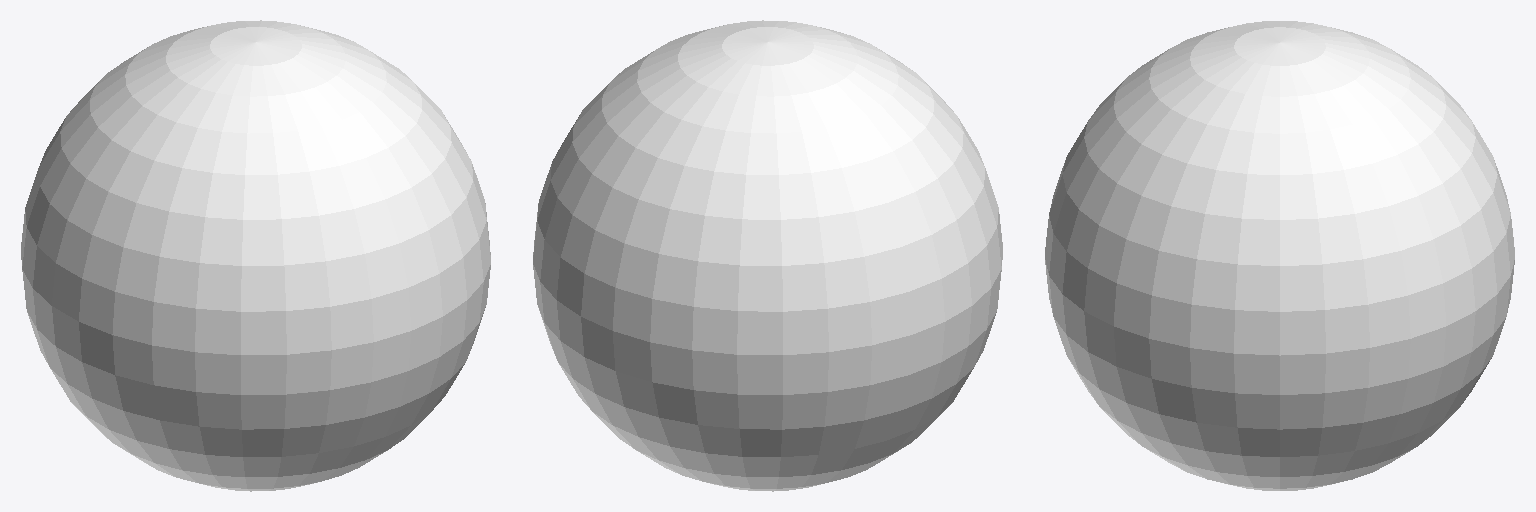
robot.urdf — target:
<?xml version="1.0" ?>
<!-- =================================================================================== -->
<!-- |    This document was autogenerated by xacro from target_sphere.xacro            | -->
<!-- |    EDITING THIS FILE BY HAND IS NOT RECOMMENDED                                 | -->
<!-- =================================================================================== -->
<robot name="target" xmlns:xacro="http://www.ros.org/wiki/xacro">
  <link name="target">
    <contact>
      <lateral_friction value="1"/>
    </contact>
    <inertial>
      <origin rpy="0 0 0" xyz="0 0 0"/>
      <mass value="0.5"/>
      <inertia ixx="0.0005" ixy="0" ixz="0" iyy="0.0005" iyz="0" izz="0.0005"/>
    </inertial>
    <visual>
      <origin rpy="0 0 0" xyz="0 0 0"/>
      <geometry>
        <sphere radius="0.05"/>
      </geometry>
      <material name="white">
        <color rgba="1 1 1 1"/>
      </material>
    </visual>
    <collision>
      <origin rpy="0 0 0" xyz="0 0 0"/>
      <geometry>
        <sphere radius="0.05"/>
      </geometry>
    </collision>
  </link>
</robot>

--- What the picture shows (computed from the rendered views, not written in the file) ---
Views: 3 orthographic renders of the robot side by side, from view 1: azimuth 30°, elevation 25°; view 2: azimuth 150°, elevation 25°; view 3: azimuth 270°, elevation 25°.
Robot: target — 1 links, 0 joints (none); root link target; default pose: every joint at zero.
Visible links, largest first — view 1: target; view 2: target; view 3: target.
Boxes of the visible links, box(x1,y1,x2,y2) form: target: box(21, 20, 490, 491); target: box(533, 20, 1002, 491); target: box(1045, 21, 1514, 490).
Bounding box of the posed robot: 0.1 × 0.1 × 0.1 m (x, y, z).
Geometry: primitives only (box / cylinder / sphere), no mesh files.